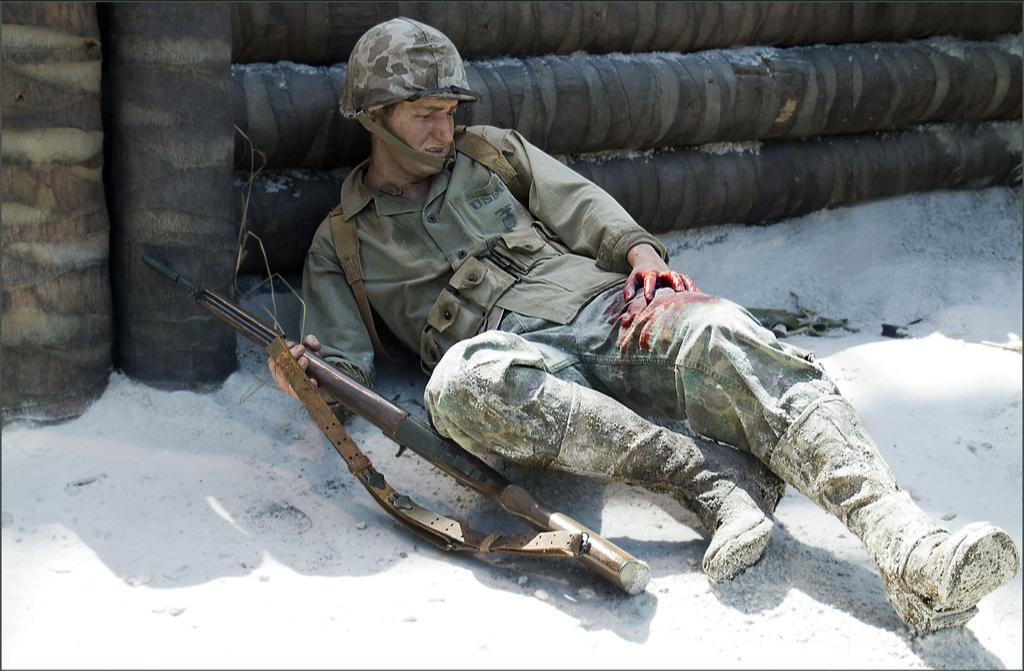gun: (140, 255, 650, 589)
